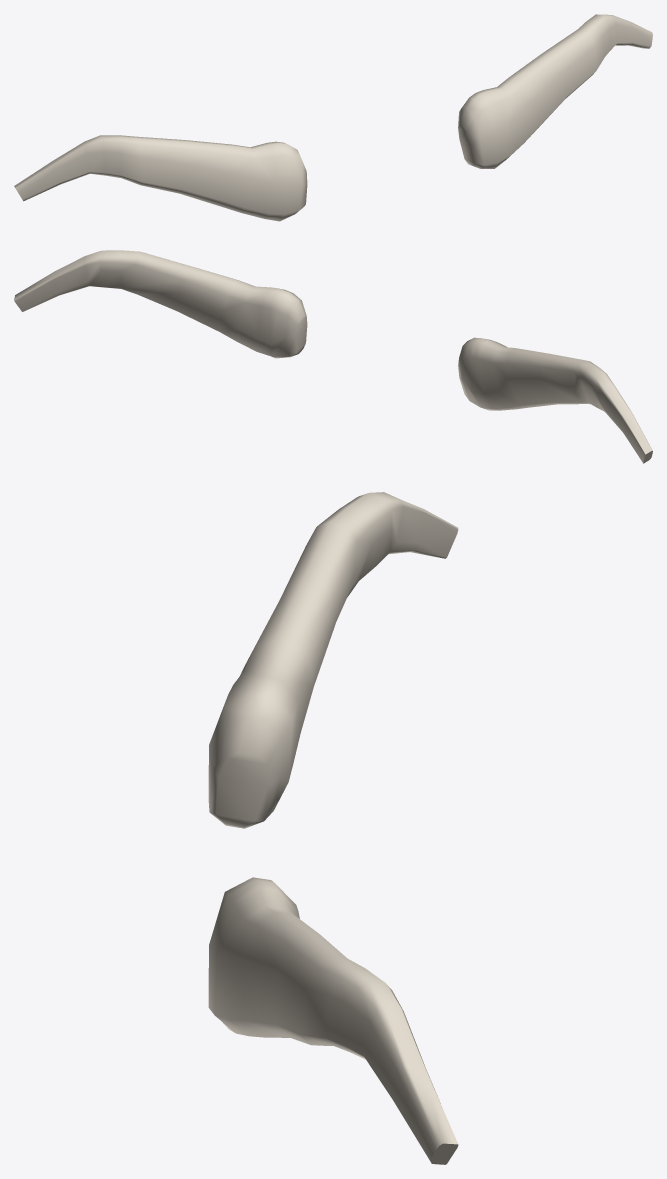
File: Eyebrows_13_07.fbx
3 renders of one model, top to bottom at view 1: azimuth 30°, elevation 25°; view 2: azimuth 150°, elevation 25°; view 3: azimuth 270°, elevation 25°, orthographic. The views are drawn at different scales.
Visible parts, largest first — view 1: Eyebrows_13_07; view 2: Eyebrows_13_07; view 3: Eyebrows_13_07.
Part boxes in pixels (<box>): Eyebrows_13_07: <box>14,14,652,221</box>; Eyebrows_13_07: <box>14,250,652,463</box>; Eyebrows_13_07: <box>208,492,458,1164</box>.
Size of the model in its own units: 19.7 by 2.81 by 3.35.
